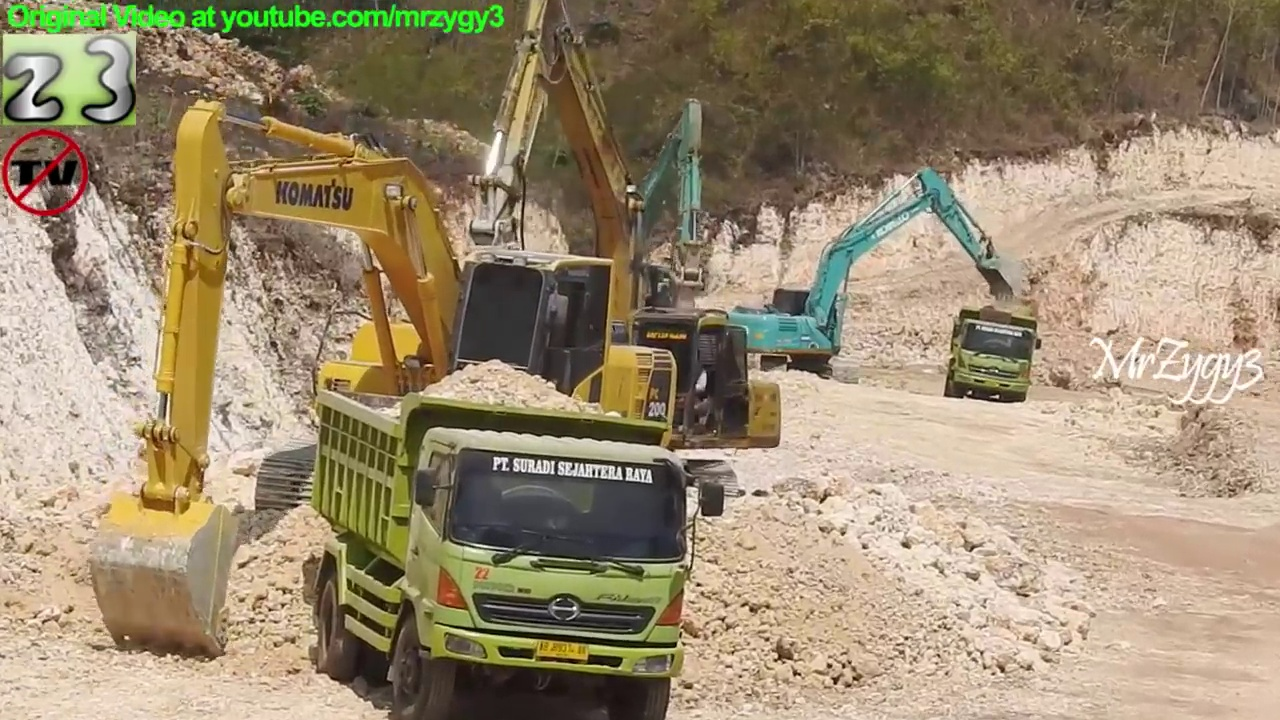excavator: (88, 99, 681, 661), (385, 2, 785, 520), (720, 165, 1036, 383)
truck: (307, 385, 728, 720), (941, 305, 1044, 406)
